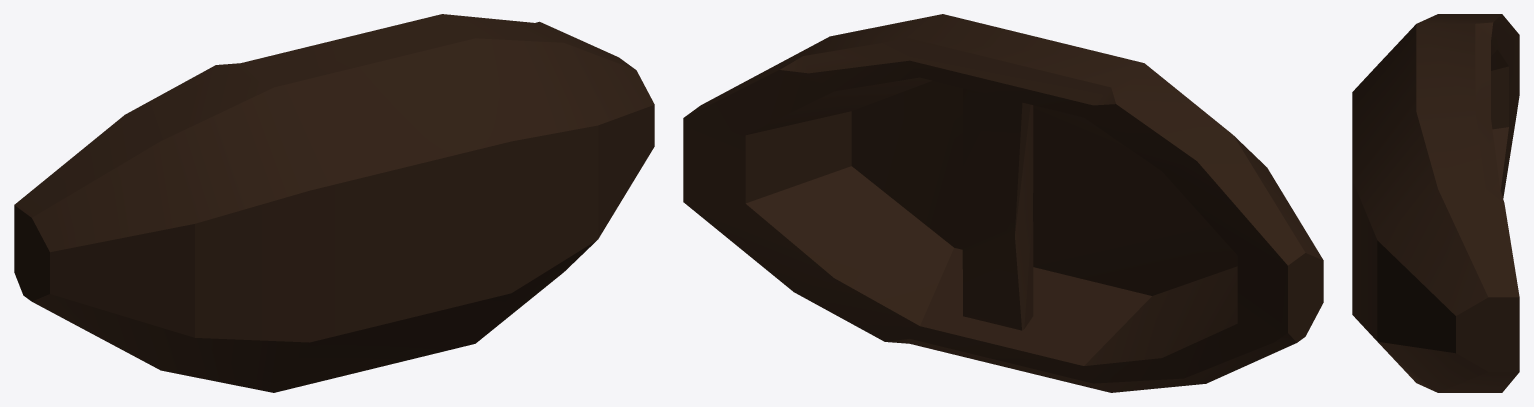
File: Bark_01.FBX
3 views of the same model, side by side, from view 1: azimuth 30°, elevation 25°; view 2: azimuth 150°, elevation 25°; view 3: azimuth 270°, elevation 25° (orthographic). The views are drawn at different scales.
Visible parts, largest first — view 1: Bark_01; view 2: Bark_01; view 3: Bark_01.
Part boxes in pixels (x1=…): Bark_01: x1=14, y1=14, x2=654, y2=392; Bark_01: x1=683, y1=14, x2=1323, y2=392; Bark_01: x1=1352, y1=14, x2=1519, y2=392.
Size of the model in its own units: 2.59 by 1.25 by 0.6978.
